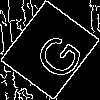G: (25, 25, 87, 84)
